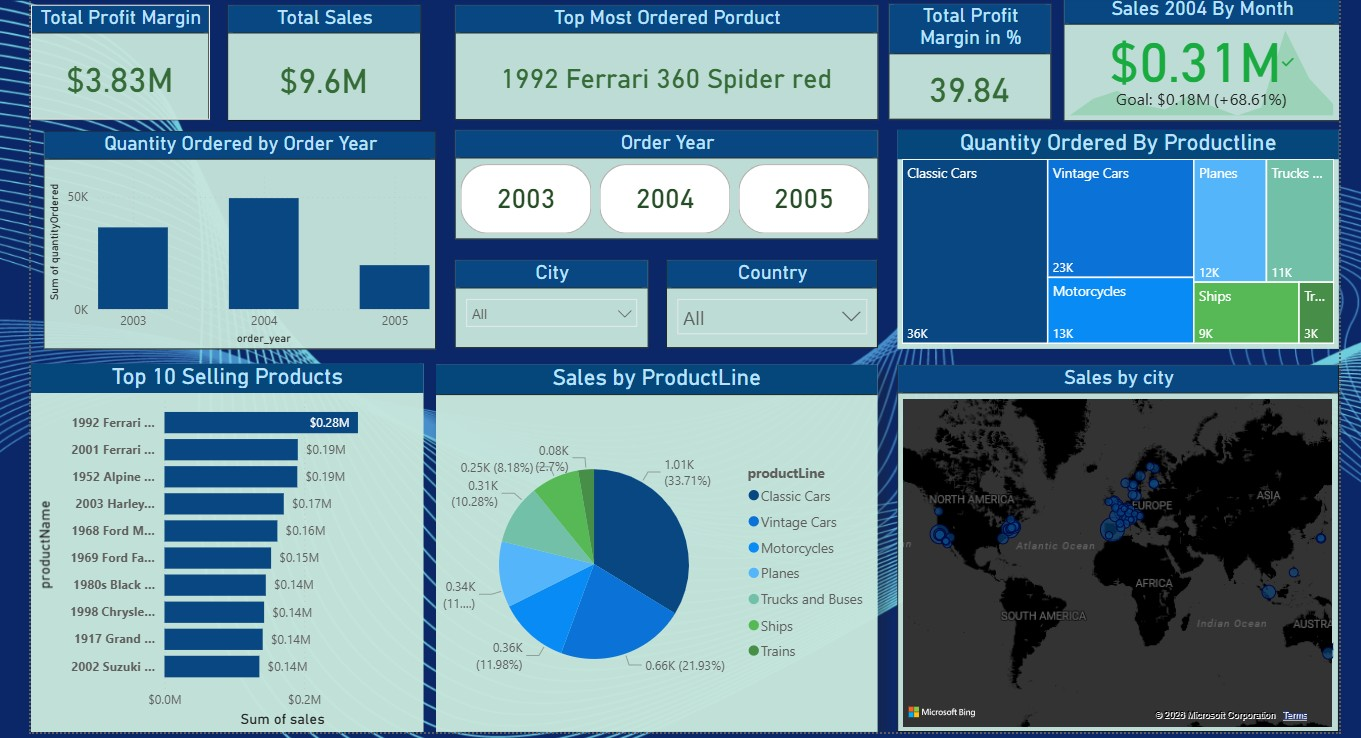

The dashboard page shown, as its layout file describes it:
{"tool":"powerbi","page":{"name":"Page 1","canvas":[1280,720],"ordinal":0},"visuals":[{"type":"card","title":"Top Most Ordered Porduct","fields":{"Values":["products.Most Ordered Product Name"]},"box":[414.4,8.2,414.4,112.5],"z":0},{"type":"pieChart","title":"Sales by ProductLine","fields":{"Category":["products.productLine"],"Y":["CountNonNull(orderDetails.sales)"]},"box":[396.2,360.7,431.7,359.5],"z":1000},{"type":"card","title":"Total Profit Margin","fields":{"Values":["orderDetails.Total Profit"]},"box":[0,8.2,174.3,112.5],"z":2000},{"type":"kpi","title":"Sales 2004 By Month","fields":{"TrendLine":["orders.Month"],"Goal":["orders.sales_2003"],"Indicator":["orders.sales_2004"]},"box":[1010,0,270.3,122.1],"z":3000},{"type":"map","title":"Sales by city","fields":{"Category":["customers.city"],"Size":["Sum(orderDetails.sales)"]},"box":[848,360.9,432.2,359.5],"z":4000},{"type":"columnChart","title":"Quantity Ordered by Order Year","fields":{"Category":["orders.order_year"],"Y":["Sum(orderDetails.quantityOrdered)"]},"box":[12.2,132.1,384,214],"z":5000},{"type":"barChart","title":"Top 10 Selling Products","fields":{"Y":["Sum(orderDetails.sales)"],"Category":["products.productName"]},"box":[0,359.5,384,360.7],"z":6000},{"type":"advancedSlicerVisual","title":"Order Year","fields":{"Values":["orders.order_year"]},"box":[414.4,130.4,414.4,107],"z":7000},{"type":"card","title":"Total Sales","fields":{"Values":["Sum(orderDetails.sales)"]},"box":[192.1,8.2,189.4,113.9],"z":8000},{"type":"slicer","title":"Country","fields":{"Values":["customers.country"]},"box":[621.6,258,207.2,86.4],"z":9000},{"type":"slicer","title":"City","fields":{"Values":["customers.city"]},"box":[414.4,258,189.4,86.4],"z":10000},{"type":"treemap","title":"Quantity Ordered By Productline","fields":{"Group":["products.productLine"],"Values":["Sum(orderDetails.quantityOrdered)"]},"box":[848,130.4,432.2,214.1],"z":11000},{"type":"card","title":"Total Profit Margin in %","fields":{"Values":["orderDetails.Total Profit Margin"]},"box":[838.4,6.9,159.2,113.9],"z":12000}]}

Visuals, with their boxes on the page's 1280x720 design canvas (x1, y1, x2, y2). These are canvas units, not pixel positions in the 1361x738 screenshot, which may show the page scaled, cropped or inside an application window:
"Top Most Ordered Porduct" card: {"x1": 414, "y1": 8, "x2": 829, "y2": 121}
"Sales by ProductLine" pieChart: {"x1": 396, "y1": 361, "x2": 828, "y2": 720}
"Total Profit Margin" card: {"x1": 0, "y1": 8, "x2": 174, "y2": 121}
"Sales 2004 By Month" kpi: {"x1": 1010, "y1": 0, "x2": 1280, "y2": 122}
"Sales by city" map: {"x1": 848, "y1": 361, "x2": 1280, "y2": 720}
"Quantity Ordered by Order Year" columnChart: {"x1": 12, "y1": 132, "x2": 396, "y2": 346}
"Top 10 Selling Products" barChart: {"x1": 0, "y1": 360, "x2": 384, "y2": 720}
"Order Year" advancedSlicerVisual: {"x1": 414, "y1": 130, "x2": 829, "y2": 237}
"Total Sales" card: {"x1": 192, "y1": 8, "x2": 382, "y2": 122}
"Country" slicer: {"x1": 622, "y1": 258, "x2": 829, "y2": 344}
"City" slicer: {"x1": 414, "y1": 258, "x2": 604, "y2": 344}
"Quantity Ordered By Productline" treemap: {"x1": 848, "y1": 130, "x2": 1280, "y2": 344}
"Total Profit Margin in %" card: {"x1": 838, "y1": 7, "x2": 998, "y2": 121}
